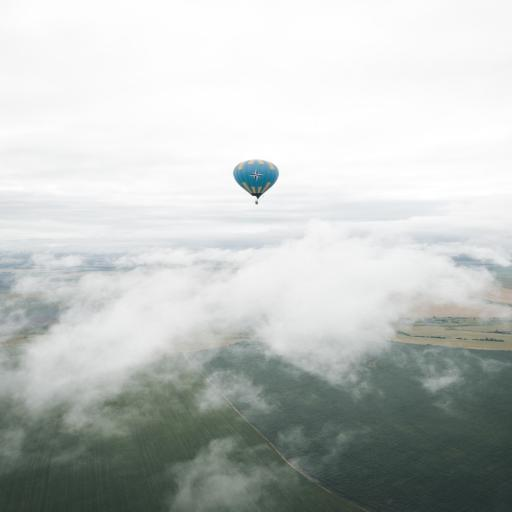hot air ballon: (232, 159, 279, 205)
